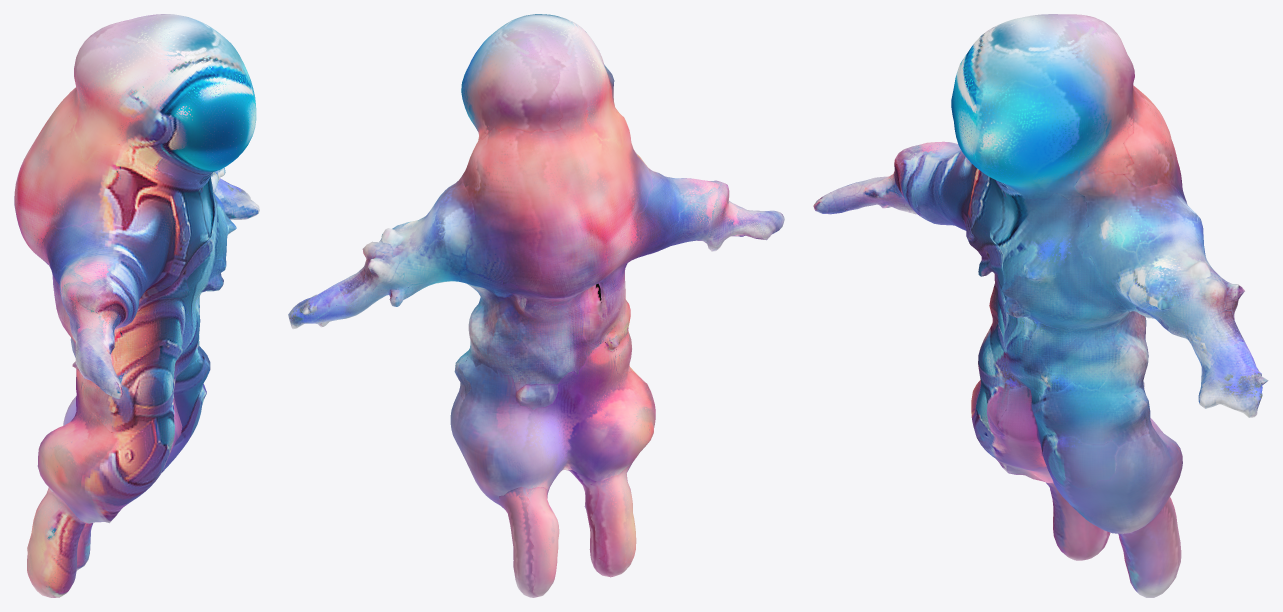
Rendered from floating-astronaut.glb.
The picture shows the model from 3 angles, left to right: view 1: azimuth 30°, elevation 25°; view 2: azimuth 150°, elevation 25°; view 3: azimuth 270°, elevation 25°; orthographic projection. The views are drawn at different scales.
Visible parts, largest first — view 1: model.obj_1; view 2: model.obj_1; view 3: model.obj_1.
Boxes of the visible parts, x1,y1,x2,y2 form: model.obj_1: (14,14,259,597); model.obj_1: (288,14,784,597); model.obj_1: (813,14,1268,597).
Bounding box in the file's own units: 0.7046 × 1.12 × 0.7737.
Materials: 1 (1 with a texture image).
